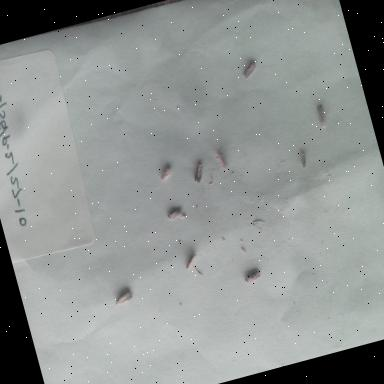pbw: (234, 57, 264, 87), (162, 202, 188, 226), (312, 101, 332, 132), (110, 288, 136, 310), (188, 159, 208, 186), (178, 249, 200, 272), (242, 267, 264, 287), (154, 161, 174, 183), (296, 149, 312, 173), (216, 147, 230, 170)
